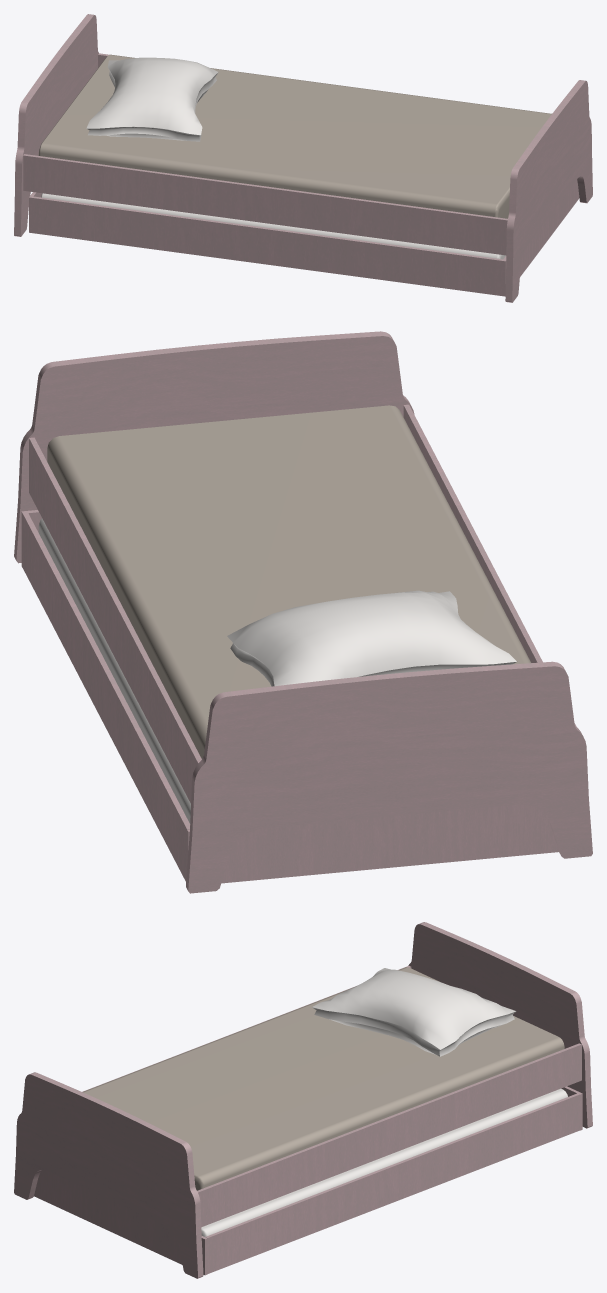
Rendered from vintage-bed.gltf.
3 renders of one model, top to bottom at view 1: azimuth 30°, elevation 25°; view 2: azimuth 150°, elevation 25°; view 3: azimuth 270°, elevation 25°, orthographic. The views are drawn at different scales.
Visible parts, largest first — view 1: bed-mattress, bed-structure, divan, pillow, divan-mattress; view 2: bed-structure, bed-mattress, divan, pillow, divan-mattress; view 3: bed-structure, bed-mattress, divan, pillow, divan-mattress.
Boxes of the visible parts, x1,y1,x2,y2 form: bed-mattress: (38, 54, 551, 218); bed-structure: (14, 14, 592, 302); divan: (29, 180, 579, 296); pillow: (86, 57, 218, 141); divan-mattress: (41, 193, 505, 259); bed-structure: (14, 331, 592, 893); bed-mattress: (47, 405, 530, 758); divan: (21, 510, 558, 883); pillow: (227, 590, 516, 686); divan-mattress: (38, 518, 190, 823); bed-structure: (14, 922, 592, 1278); bed-mattress: (82, 967, 564, 1190); divan: (34, 1086, 582, 1275); pillow: (312, 968, 516, 1056); divan-mattress: (201, 1088, 567, 1236).
Bounding box in the file's own units: 212 × 54.11 × 218.
Materials: 7 (2 with a texture image).
